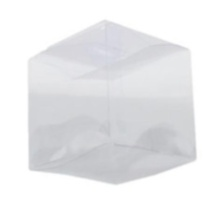plastic_box: (18, 13, 203, 192)
